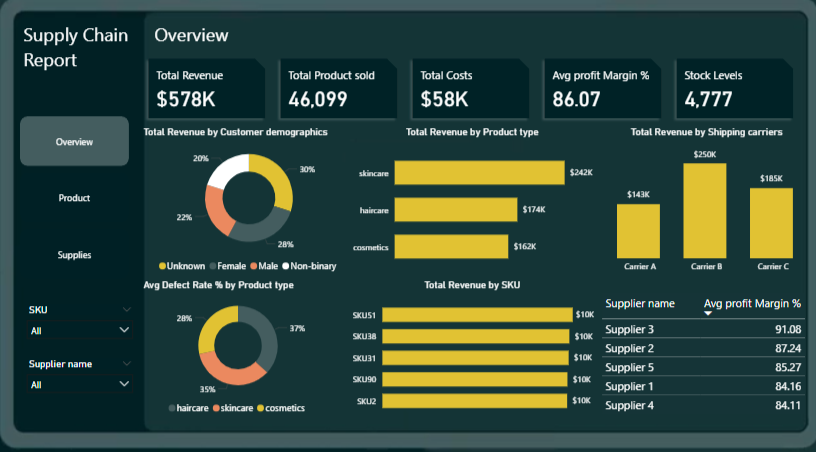

The dashboard page shown, as its layout file describes it:
{"tool":"powerbi","page":{"name":"Overview","canvas":[1280,720],"ordinal":0},"visuals":[{"type":"cardVisual","fields":{"Data":["_measures.Total Revenue","_measures.Total Product sold","_measures.Total Costs","_measures.Avg profit Margin %","_measures.Stock Levels"]},"box":[256,112,976,112],"z":0},{"type":"donutChart","fields":{"Y":["_measures.Total Revenue"],"Category":["supply_chain_data.Customer demographics"]},"box":[256,224,320,224],"z":1000},{"type":"donutChart","fields":{"Y":["_measures.Avg Defect Rate %"],"Category":["supply_chain_data.Product type"]},"box":[256,448,288,208],"z":2000},{"type":"barChart","fields":{"Y":["_measures.Total Revenue"],"Category":["supply_chain_data.Product type"]},"box":[560,224,368,224],"z":3000},{"type":"barChart","fields":{"Y":["_measures.Total Revenue"],"Category":["supply_chain_data.SKU"]},"box":[560,448,368,208],"z":4000},{"type":"columnChart","fields":{"Y":["_measures.Total Revenue"],"Category":["supply_chain_data.Shipping carriers"]},"box":[912,224,352,224],"z":5000},{"type":"tableEx","fields":{"Values":["supply_chain_data.Supplier name","_measures.Avg profit Margin %"]},"box":[928,464,320,208],"z":6000},{"type":"textbox","box":[272,64,400,48],"z":7000},{"type":"pageNavigator","box":[80,208,160,240],"z":8000},{"type":"slicer","fields":{"Values":["supply_chain_data.SKU"]},"box":[80,480,176,64],"z":9000},{"type":"slicer","fields":{"Values":["supply_chain_data.Supplier name"]},"box":[80,560,176,64],"z":10000},{"type":"textbox","box":[80,64,192,96],"z":11000}]}

Visuals, with their boxes in screenshot pixels (x1, y1, x2, y2), scaled from the page's 1280x720 canvas onto the 816x452 screenshot:
cardVisual - _measures.Total Revenue x _measures.Total Product sold: Rect(163, 70, 785, 141)
donutChart - _measures.Total Revenue x supply_chain_data.Customer demographics: Rect(163, 141, 367, 281)
donutChart - _measures.Avg Defect Rate % x supply_chain_data.Product type: Rect(163, 281, 347, 412)
barChart - _measures.Total Revenue x supply_chain_data.Product type: Rect(357, 141, 592, 281)
barChart - _measures.Total Revenue x supply_chain_data.SKU: Rect(357, 281, 592, 412)
columnChart - _measures.Total Revenue x supply_chain_data.Shipping carriers: Rect(581, 141, 806, 281)
tableEx - supply_chain_data.Supplier name x _measures.Avg profit Margin %: Rect(592, 291, 796, 422)
textbox: Rect(173, 40, 428, 70)
pageNavigator: Rect(51, 131, 153, 281)
slicer - supply_chain_data.SKU: Rect(51, 301, 163, 342)
slicer - supply_chain_data.Supplier name: Rect(51, 352, 163, 392)
textbox: Rect(51, 40, 173, 100)
